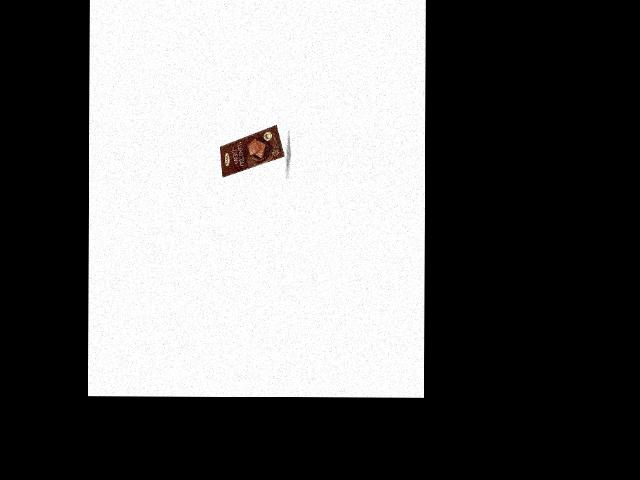chocolate: (218, 122, 287, 178)
